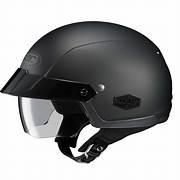Helmet: (3, 18, 174, 165)
